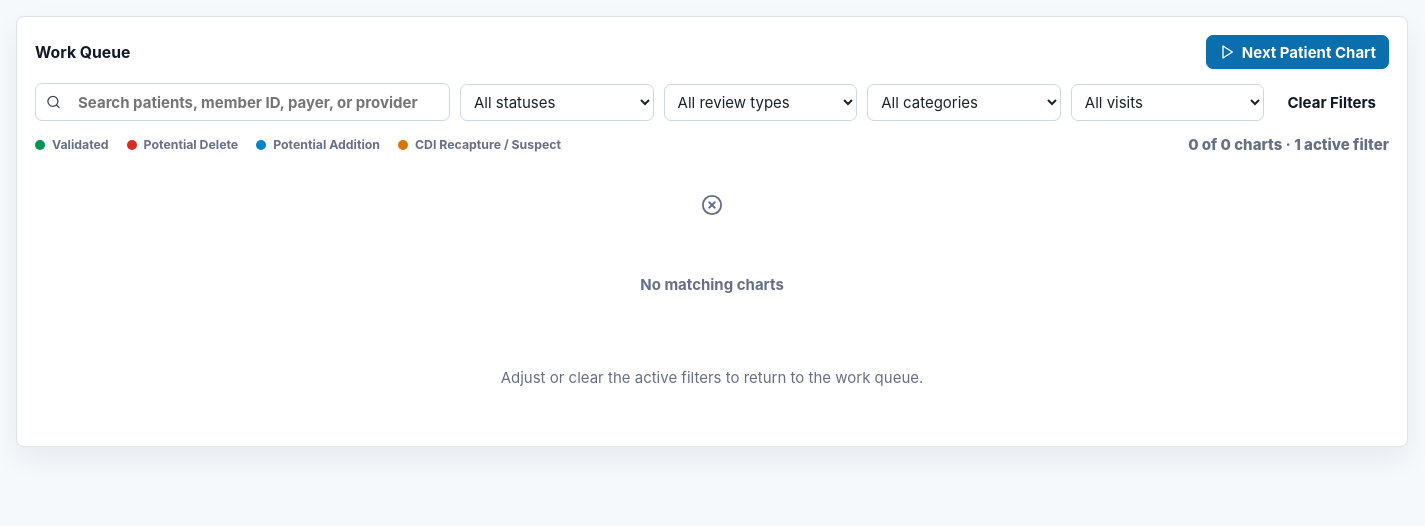
Test: QueuePage lifecycle filtering › excludes final reviews from the active queue
Click the button "Next Patient Chart" at [1297, 52], box [1206,35,1389,69]
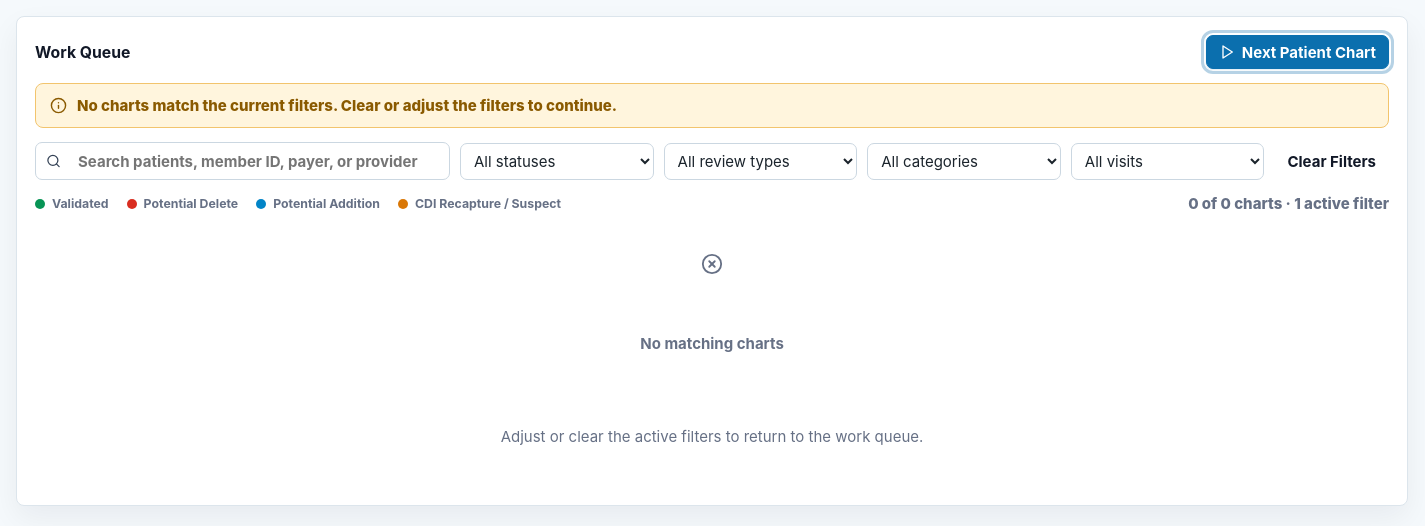
Expected: the text "0 of 0 charts · 1 active filter" is shown, [1188,194,1389,213]
Result: the message reads "No charts match the current filters. Clear or adjust the filters to continue." at [77,96,617,115]
